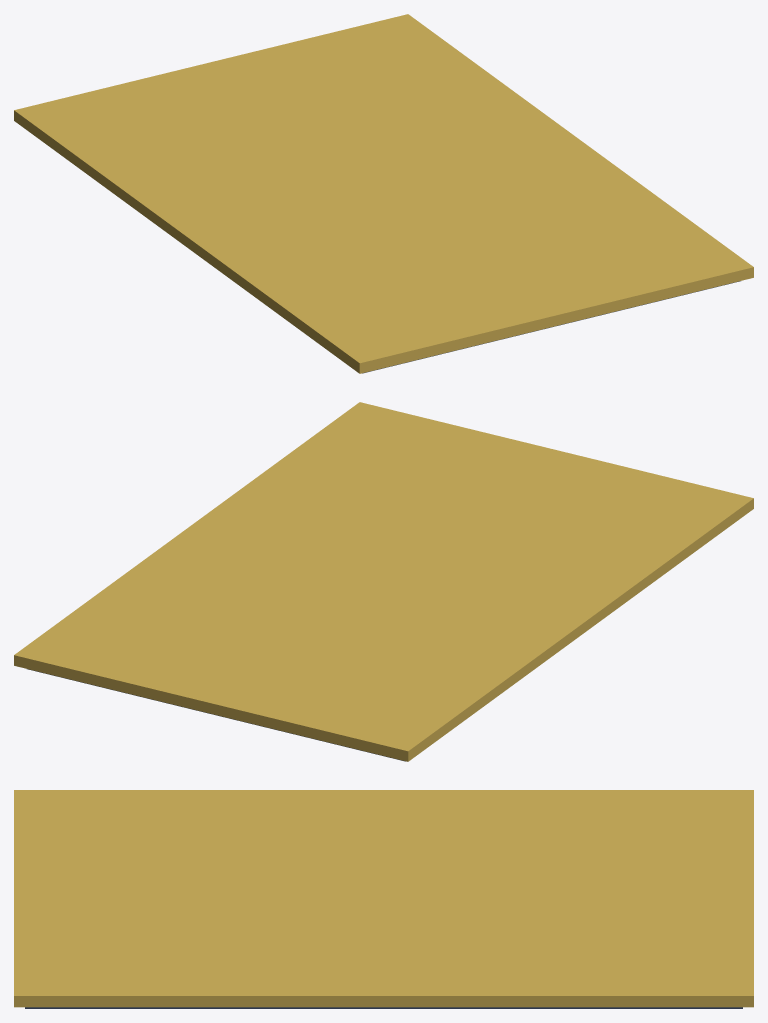
The model's file is card_single_back.glb.
The picture shows the model from 3 angles, top to bottom: view 1: azimuth 30°, elevation 25°; view 2: azimuth 150°, elevation 25°; view 3: azimuth 270°, elevation 25°; orthographic projection. The views are drawn at different scales.
Parts seen in each view (by area): view 1: world; view 2: world; view 3: world.
Part boxes in pixels (x1,y1,x2,y2): world: (14, 14, 753, 373); world: (14, 402, 753, 761); world: (14, 790, 753, 1008).
Bounding box in the file's own units: 0.156 × 0.006 × 0.237.
